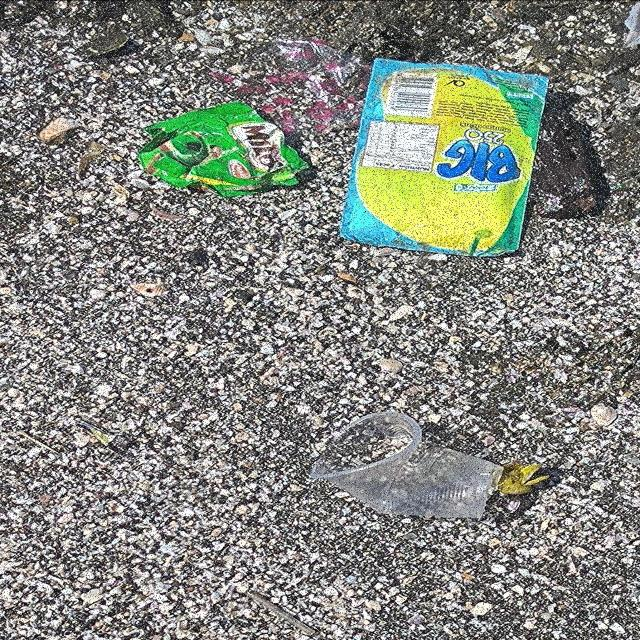plastic_waste: (339, 58, 552, 259), (310, 411, 506, 520), (137, 100, 313, 198)
